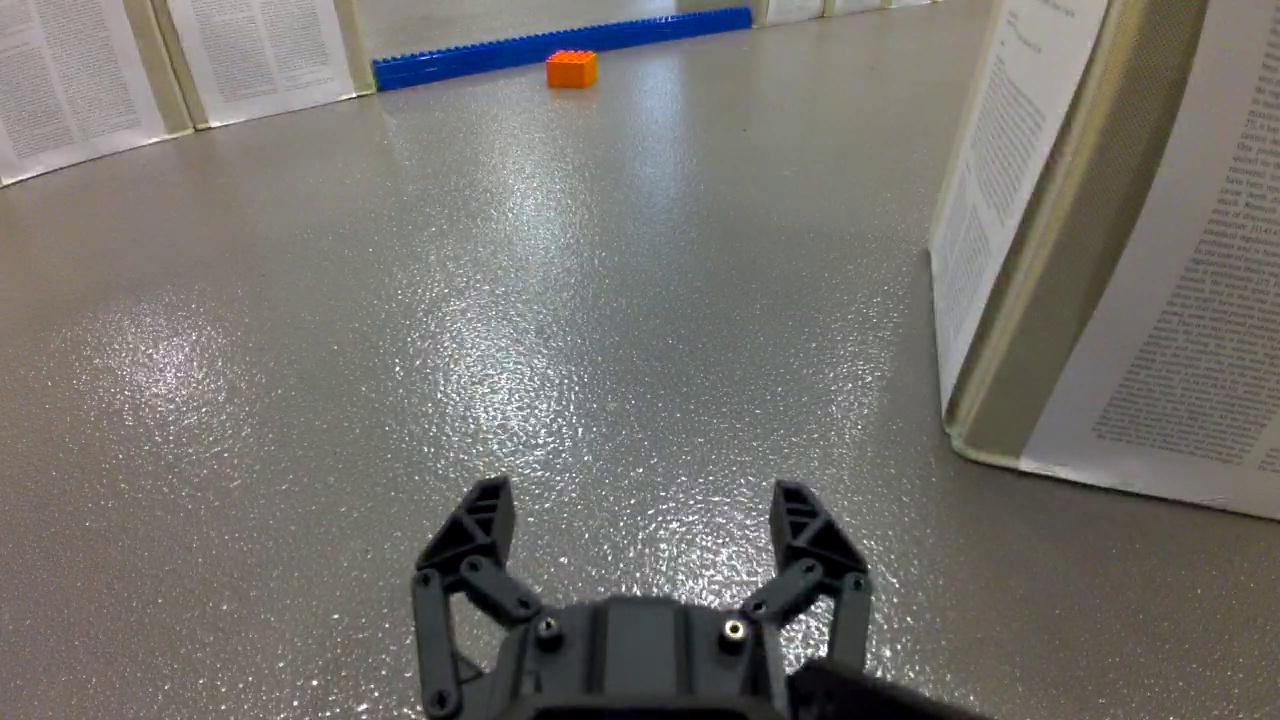4x4lego: (544, 47, 601, 89)
